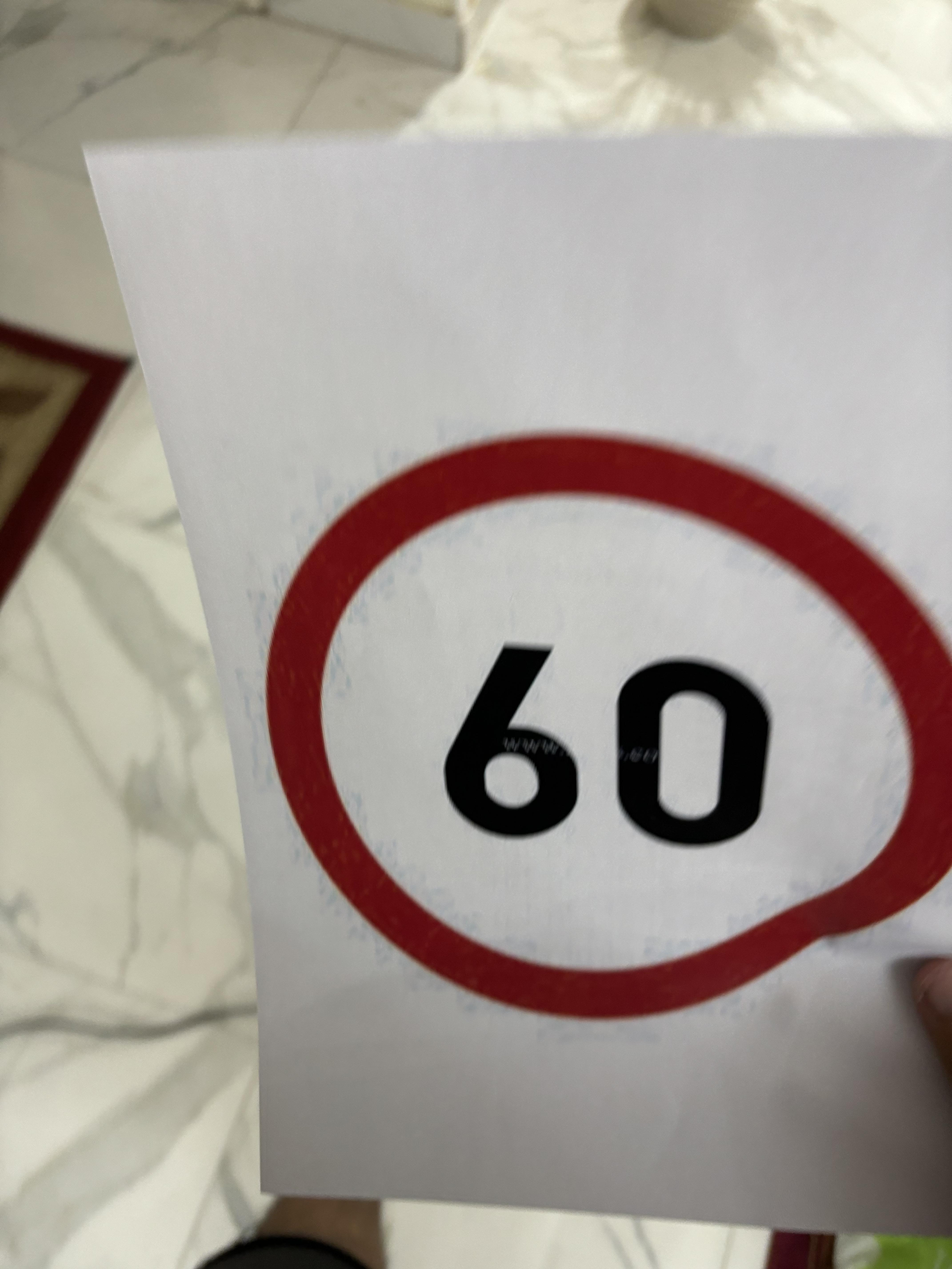60-Speed: (258, 420, 952, 1023)
